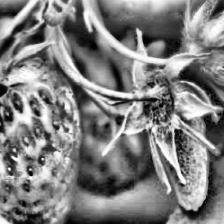Gray Mold: (102, 28, 224, 211)
